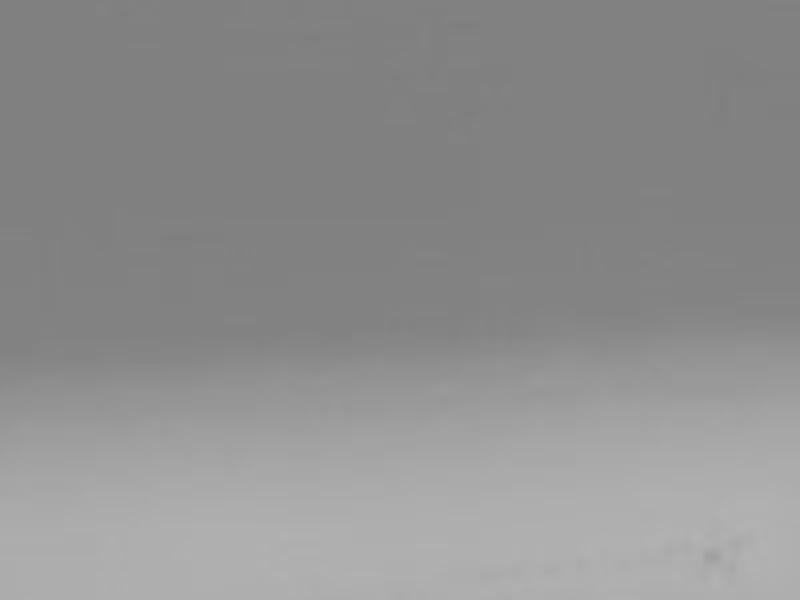defect: (701, 546, 723, 563), (692, 567, 715, 583), (724, 532, 743, 549)
